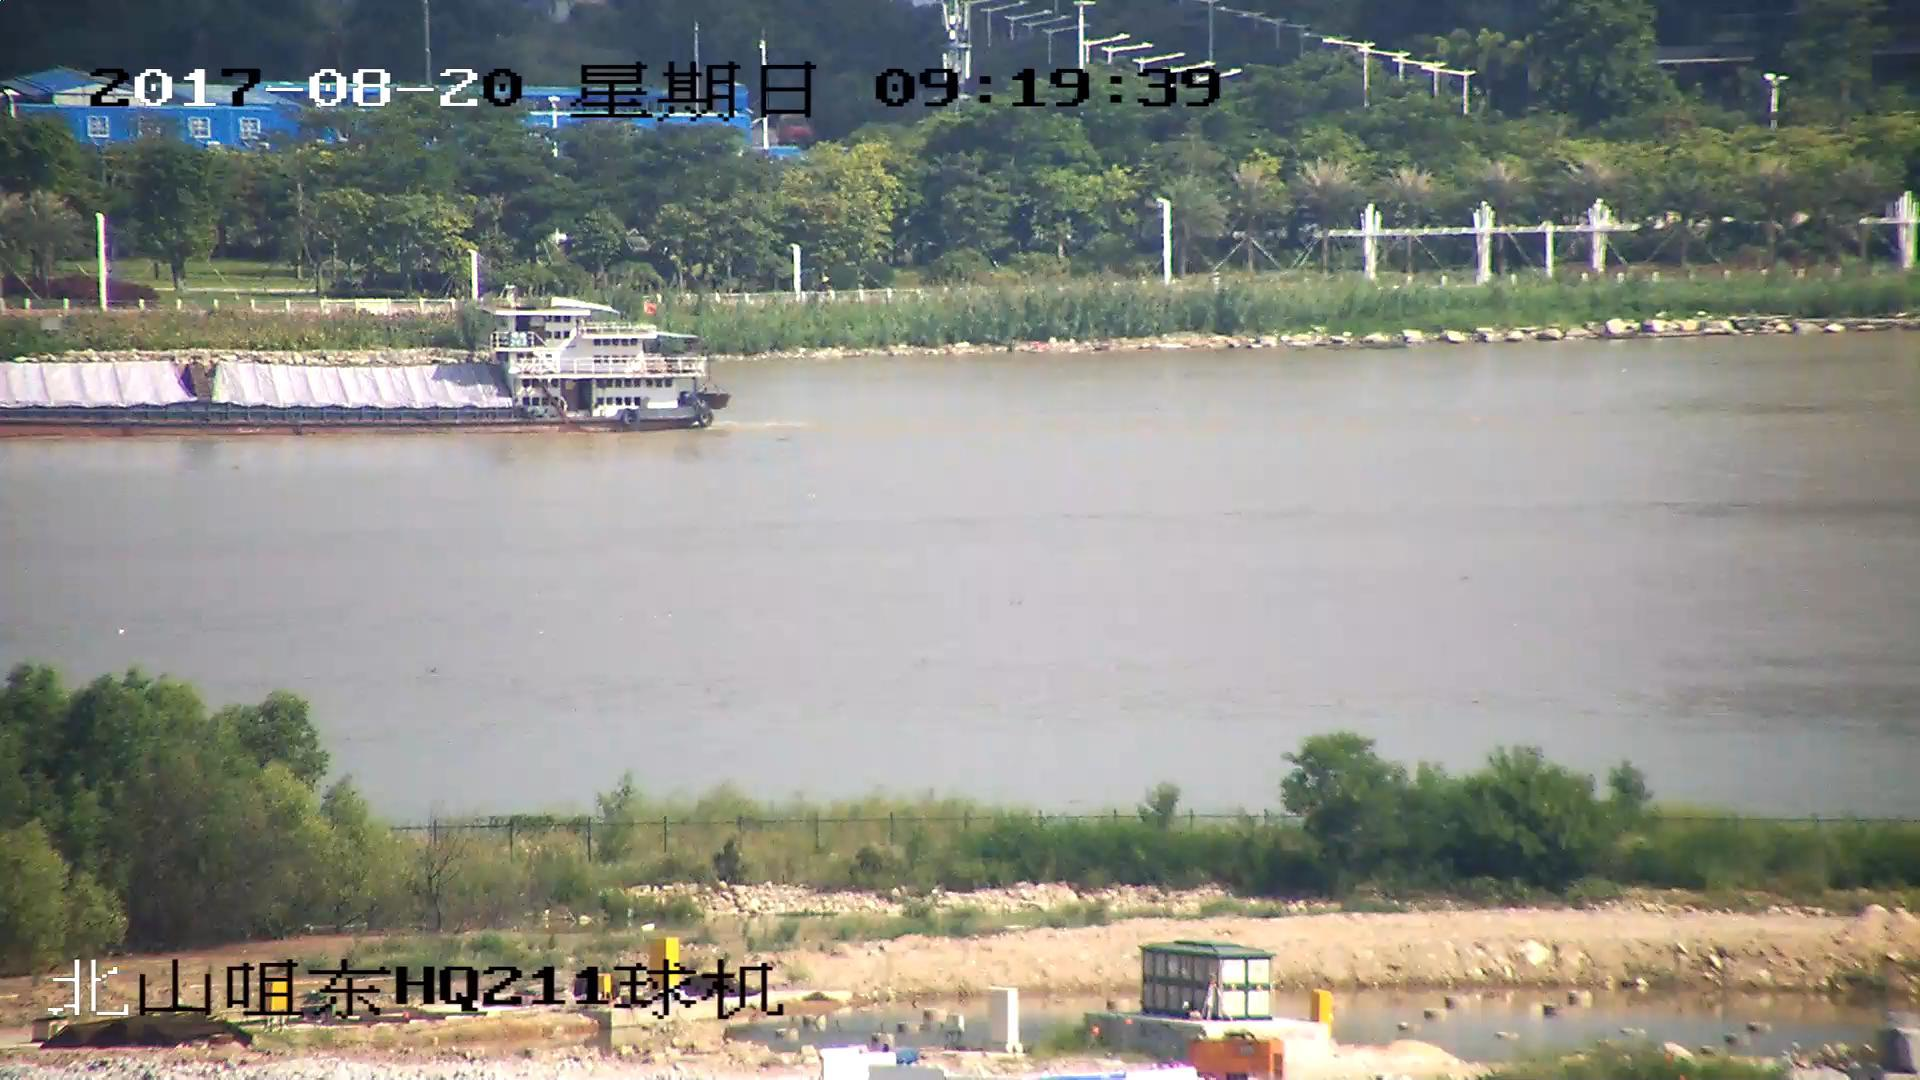Ship: (3, 289, 723, 440)
